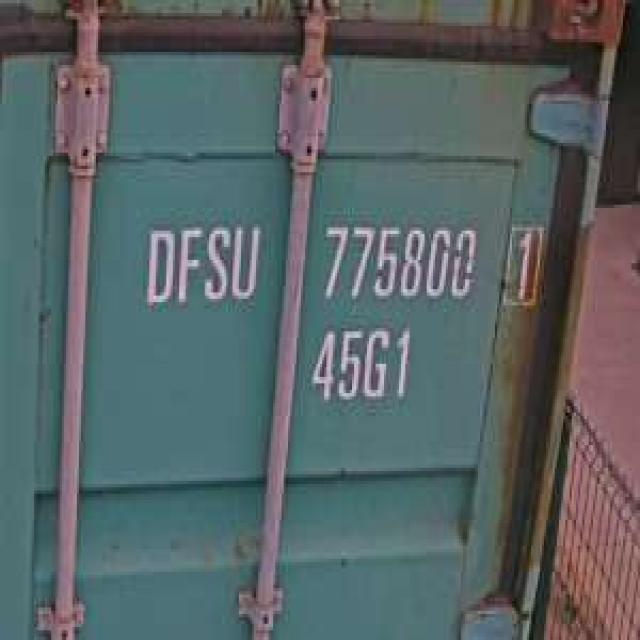dv: (497, 211, 546, 315)
owner: (136, 211, 264, 312)
serial: (316, 214, 480, 308)
size: (307, 315, 414, 409)
